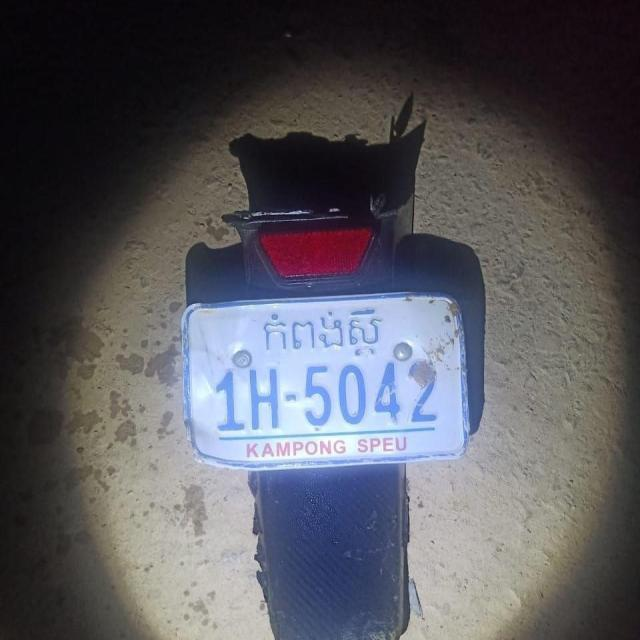Kampong_Speu: (261, 304, 386, 362)
